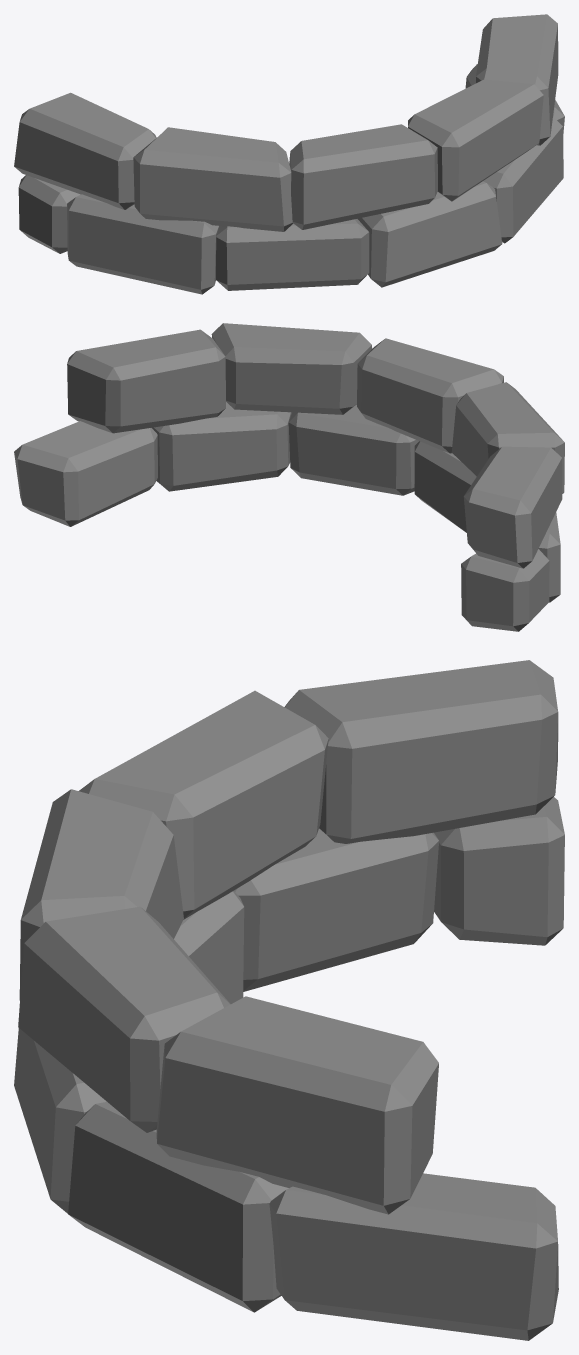
File: BrickWall2mSection_01_T180_End_R.fbx
3 views of the same model, one above another, from view 1: azimuth 30°, elevation 25°; view 2: azimuth 150°, elevation 25°; view 3: azimuth 270°, elevation 25° (orthographic). The views are drawn at different scales.
Visible parts, largest first — view 1: BrickWall2mSection_01_T180_End_R; view 2: BrickWall2mSection_01_T180_End_R; view 3: BrickWall2mSection_01_T180_End_R.
Part boxes in pixels (x1=…): BrickWall2mSection_01_T180_End_R: x1=14, y1=14, x2=564, y2=294; BrickWall2mSection_01_T180_End_R: x1=14, y1=323, x2=564, y2=631; BrickWall2mSection_01_T180_End_R: x1=14, y1=660, x2=564, y2=1340.
Size of the model in its own units: 162 by 41.78 by 80.9.
